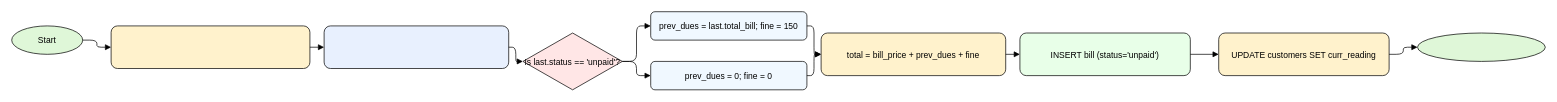
This 1557x102 diagram has some shape labels left out. Each missing label, with the box of its shape:
Calculate units & bill_price (calculate_tiered_bill): (110, 25, 310, 69)
Fetch last bill for service_no: (323, 25, 509, 69)
Return bill object (success): (1417, 32, 1545, 61)
